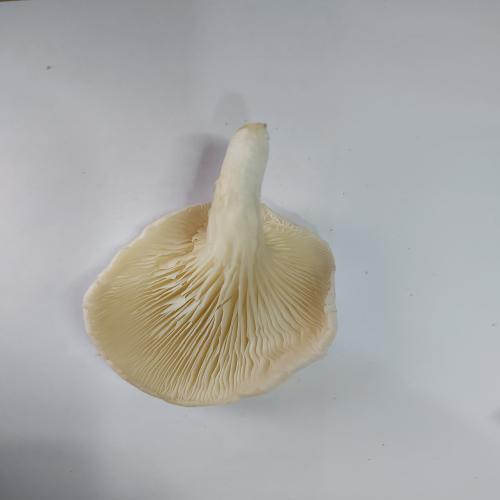Oyster Mushroom: (81, 121, 339, 407)
